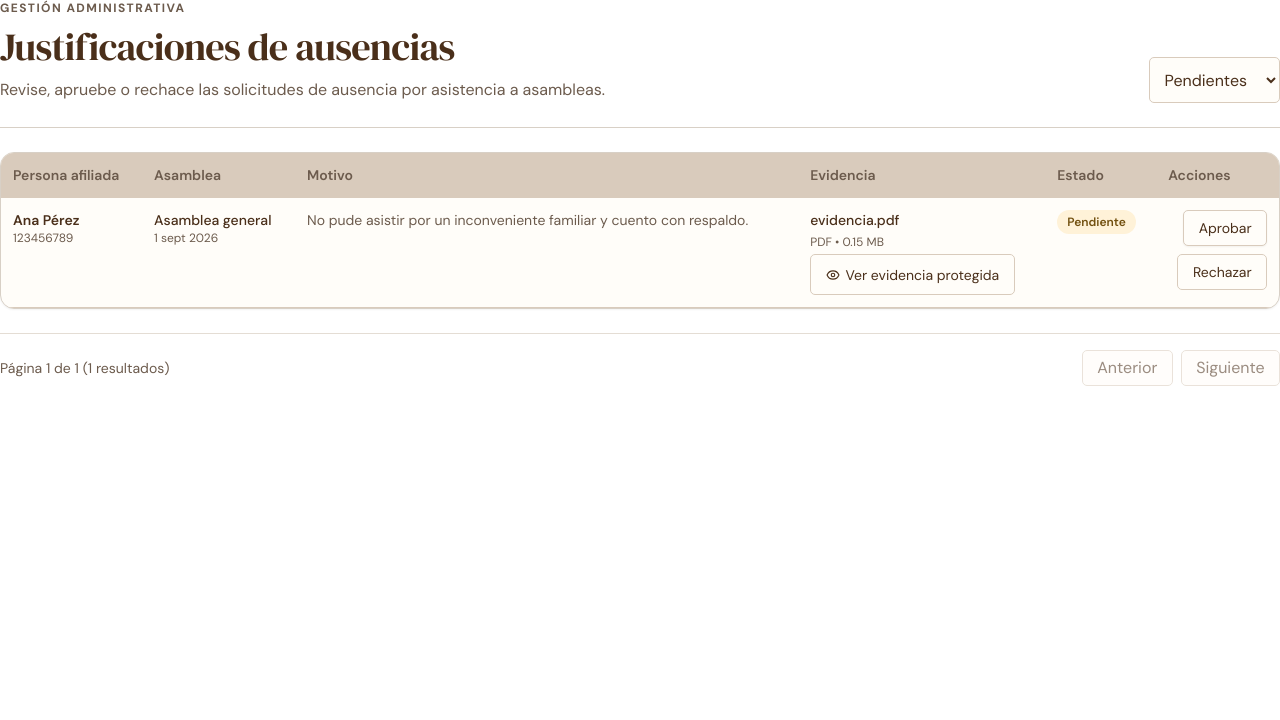
it: AbsenceJustificationsPage › requiere observación antes de rechazar
What coordinates should you click on to do the following:
click the button "Rechazar"
I would click on:
 (1222, 272)
Its box is [1178,254,1267,290].
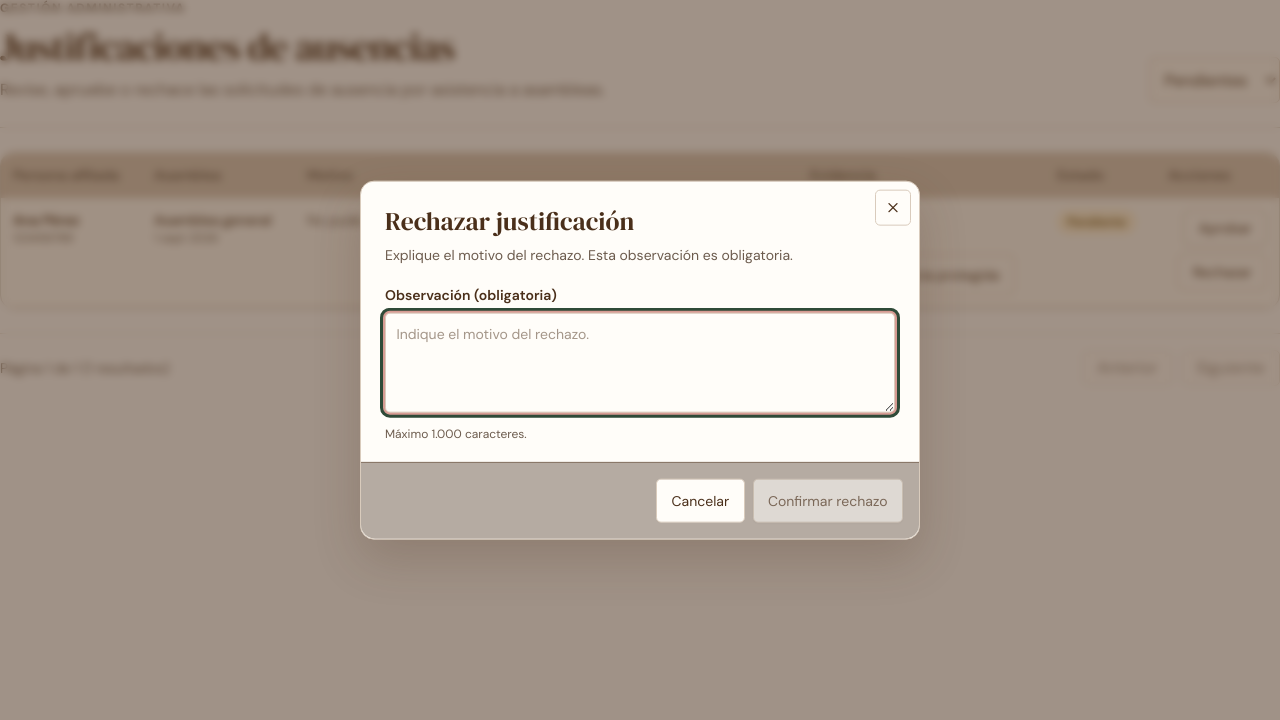
Check: the text box labelled "Observación (obligatoria)" is shown, box [385,312,895,412]
Check: the button "Confirmar rechazo" is disabled, box [752,478,903,522]
